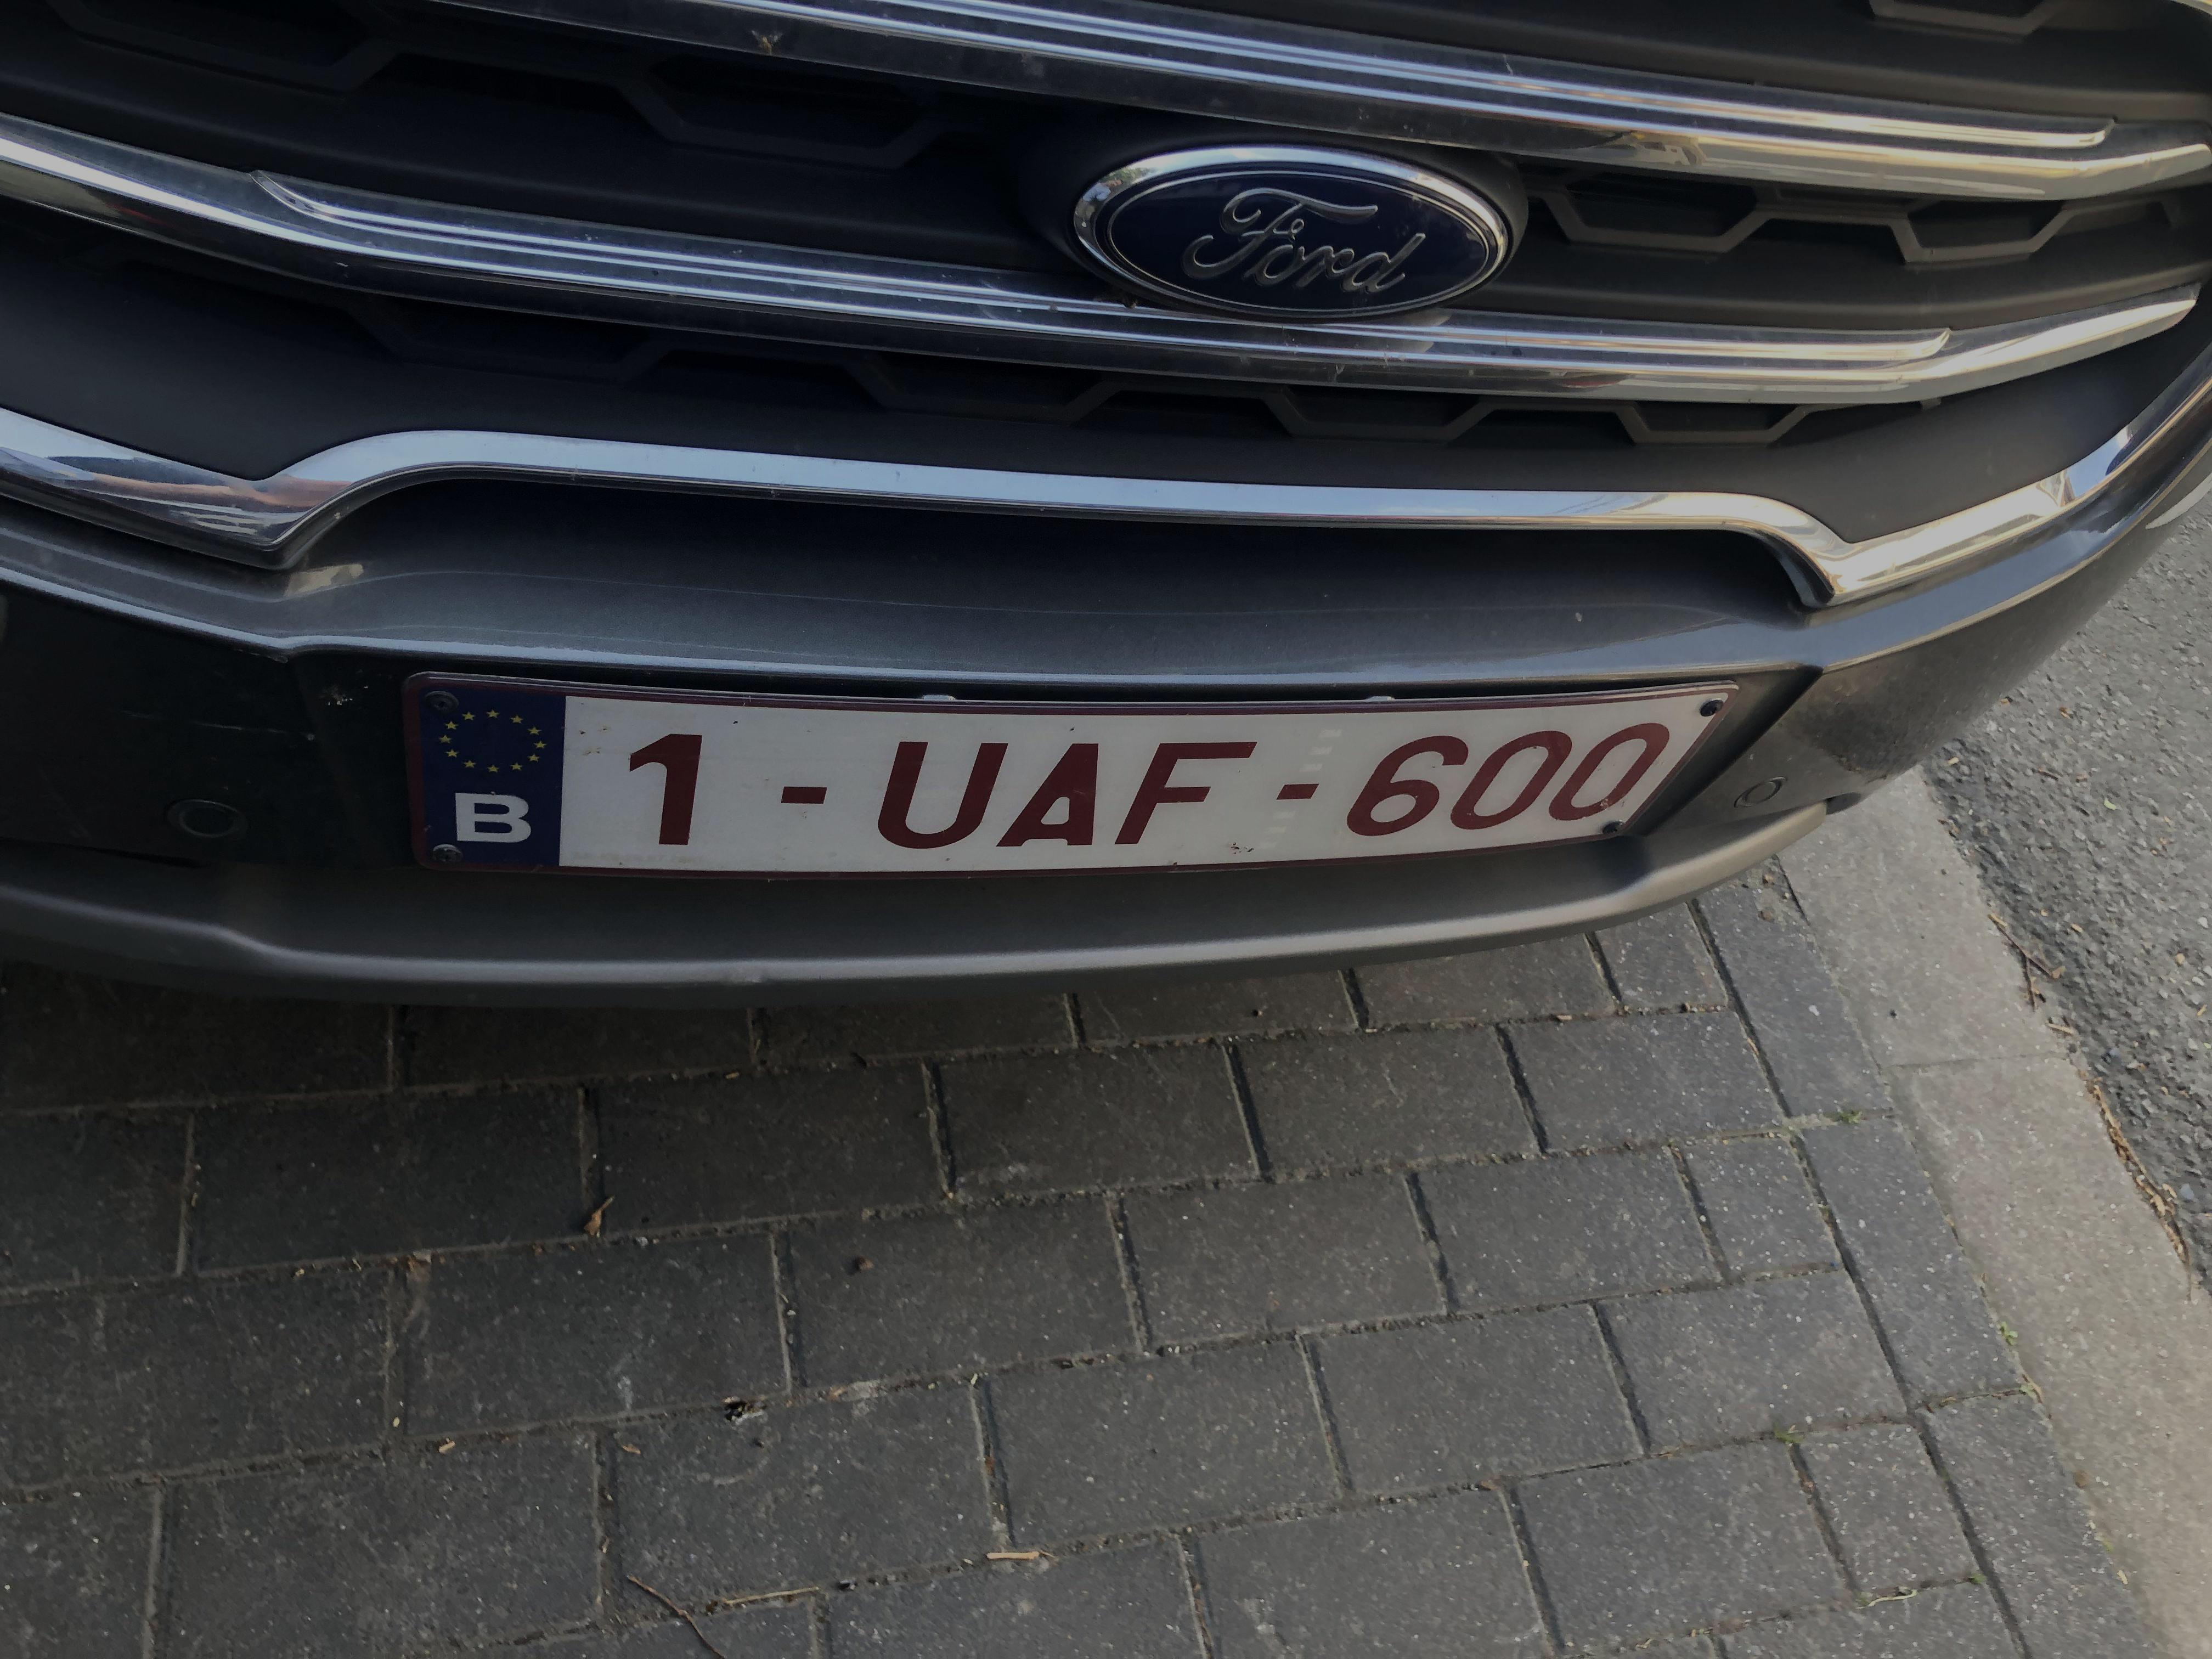plate: (349, 657, 1754, 890)
